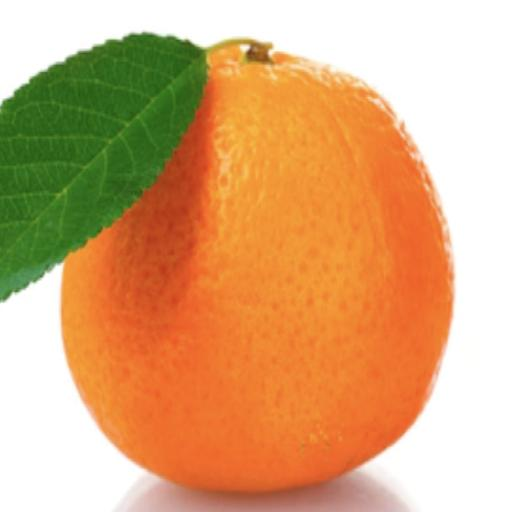orange: (62, 49, 453, 491)
